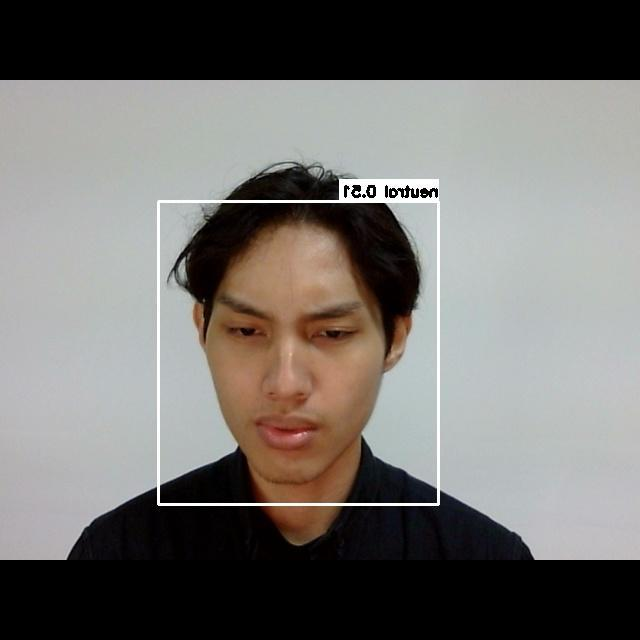Angry: (209, 289, 375, 469)
